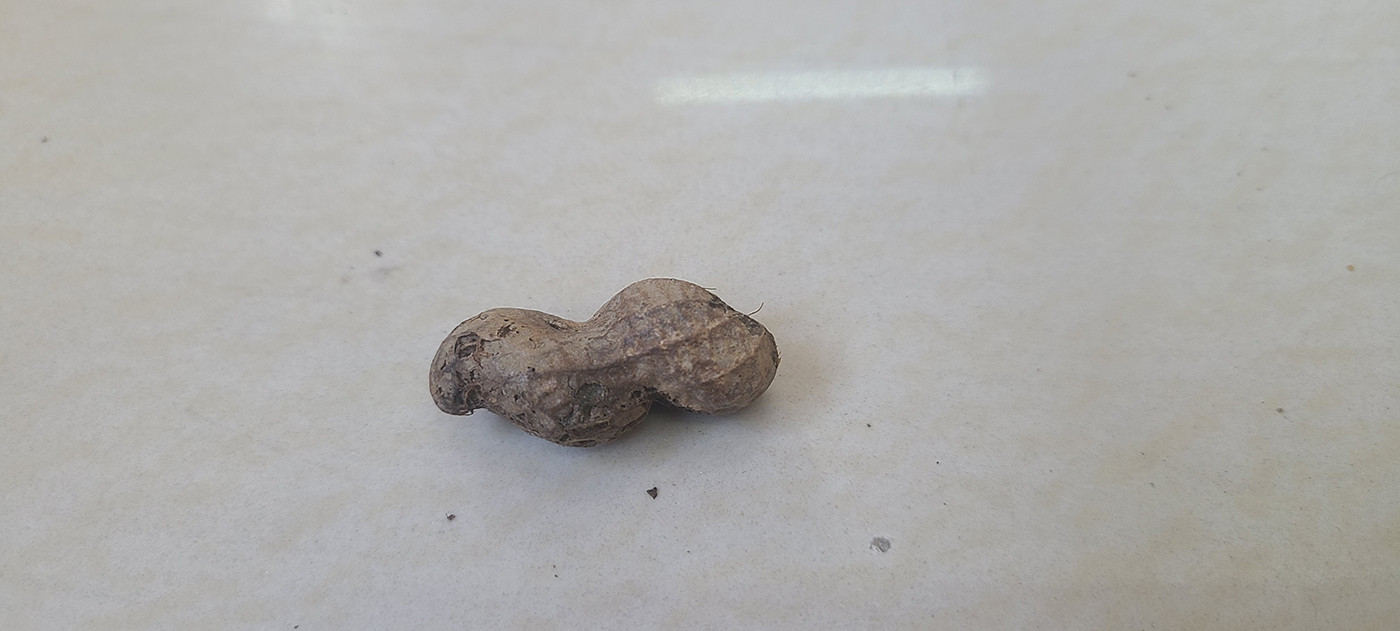l: (425, 274, 781, 446)
